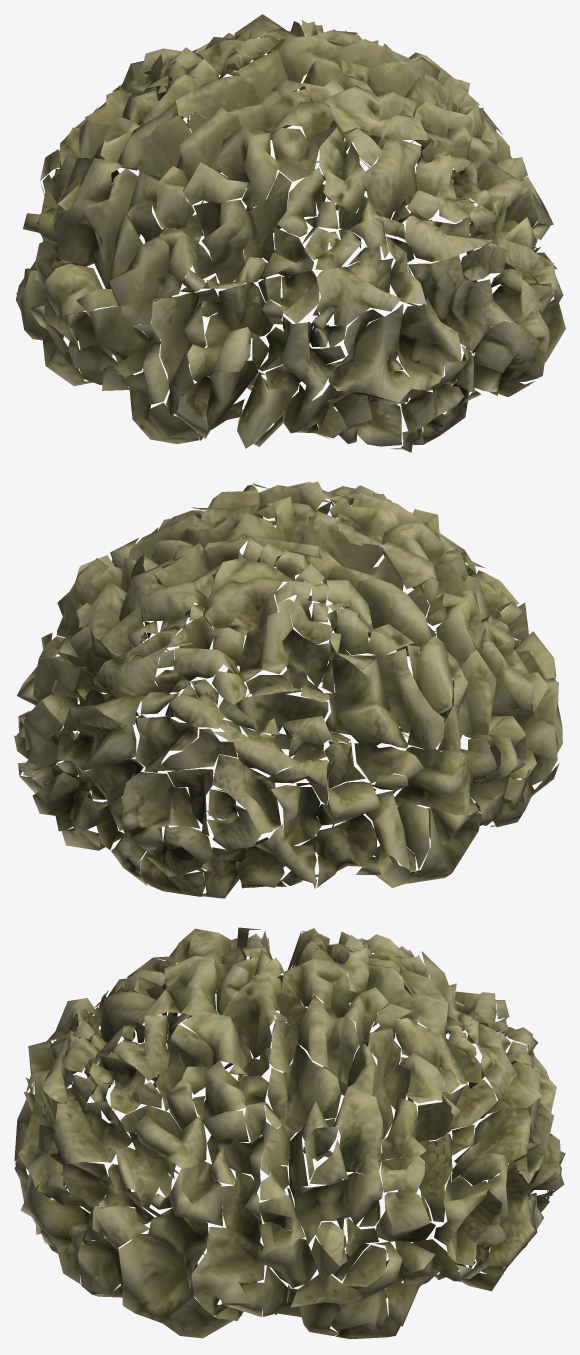
Rendered from coral_brain.glb.
The picture shows the model from 3 angles, top to bottom: view 1: azimuth 30°, elevation 25°; view 2: azimuth 150°, elevation 25°; view 3: azimuth 270°, elevation 25°; orthographic projection. The views are drawn at different scales.
Parts seen in each view (by area): view 1: tripo_node_5cf2469b-5acd-4107-885e-8fee94ce5a00; view 2: tripo_node_5cf2469b-5acd-4107-885e-8fee94ce5a00; view 3: tripo_node_5cf2469b-5acd-4107-885e-8fee94ce5a00.
Boxes of the visible parts, bbox=[...] form: tripo_node_5cf2469b-5acd-4107-885e-8fee94ce5a00: bbox=[16, 14, 565, 452]; tripo_node_5cf2469b-5acd-4107-885e-8fee94ce5a00: bbox=[14, 481, 562, 898]; tripo_node_5cf2469b-5acd-4107-885e-8fee94ce5a00: bbox=[14, 927, 565, 1339].
Bounding box in the file's own units: 0.9512 × 0.6909 × 0.995.
Materials: 1 (1 with a texture image).
